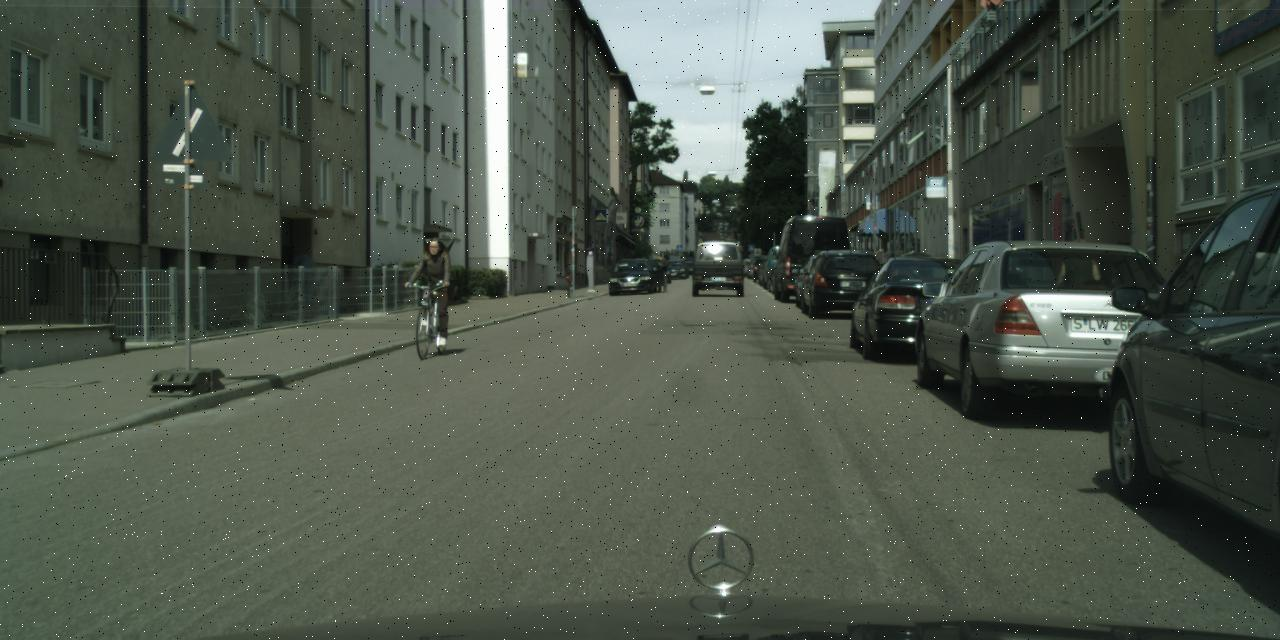ped: (1058, 238, 1100, 340), (413, 236, 454, 336), (652, 254, 667, 292)
